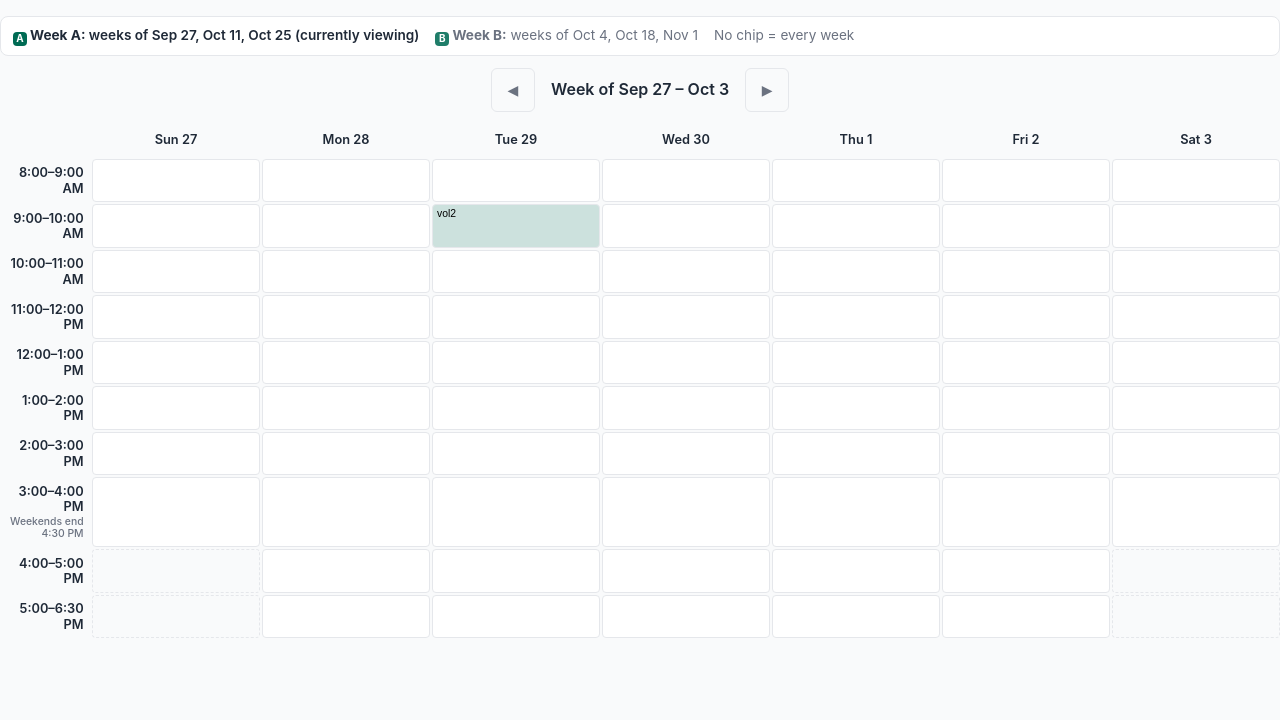
Scenario: ScheduleOverview › marks an optional needs_coverage member distinctly in the popover, without the warning icon
This screenshot has width=1280, height=720.
Click the cell named "Tue 9:00 AM, 1 available". click: (516, 226)
box: [432,204,600,248]
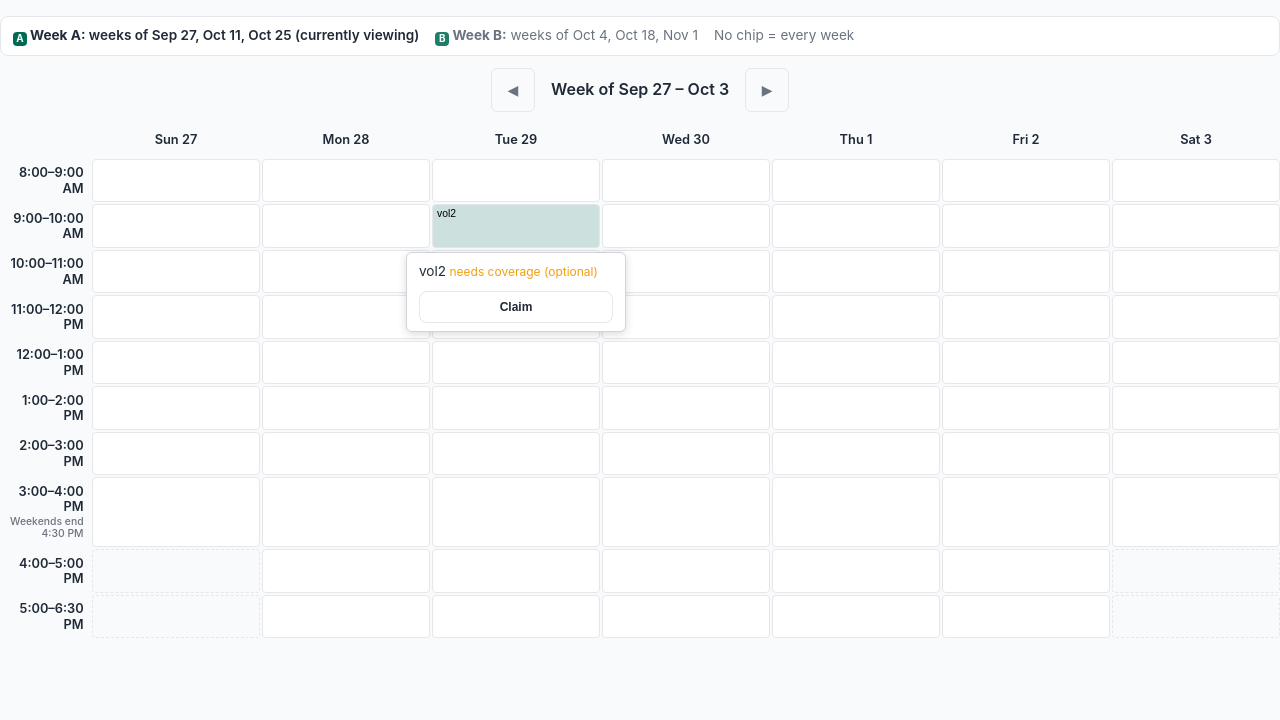
Result: the text "needs coverage (optional)" is shown at [446,264,598,279]
